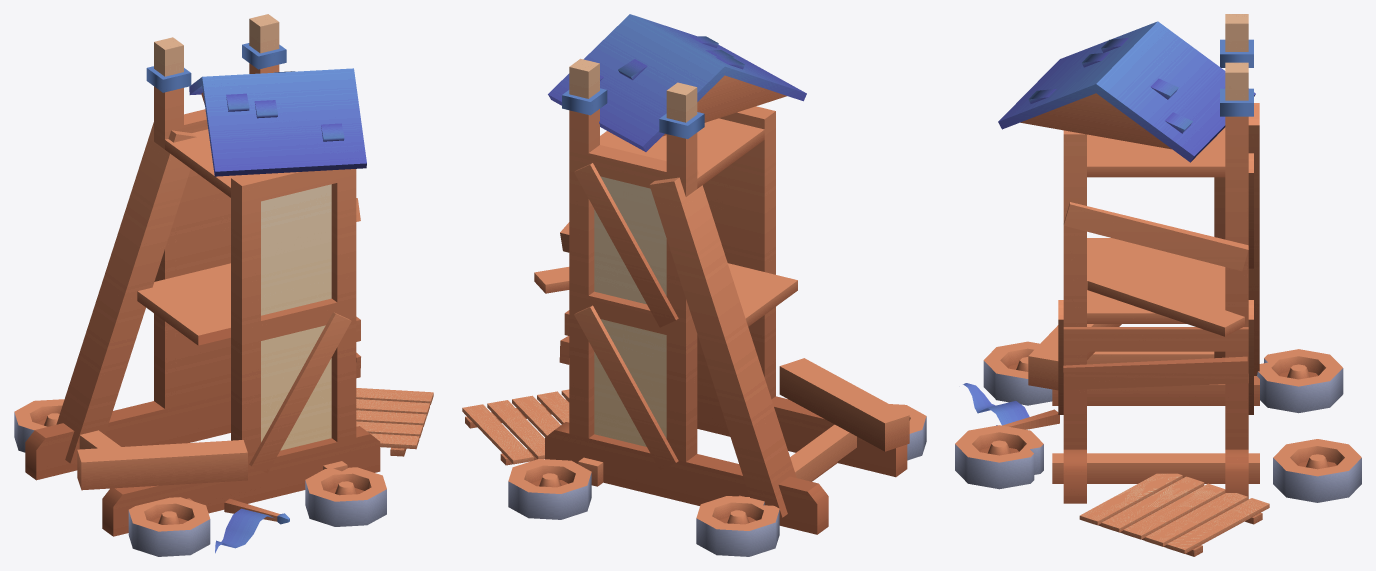
The model's file is siege-tower-demolished.glb.
3 views of the same model, side by side, from view 1: azimuth 30°, elevation 25°; view 2: azimuth 150°, elevation 25°; view 3: azimuth 270°, elevation 25° (orthographic). The views are drawn at different scales.
Parts seen in each view (by area): view 1: siege-tower-demolished; view 2: siege-tower-demolished; view 3: siege-tower-demolished.
Part boxes in pixels (bbox=[...]): siege-tower-demolished: bbox=[14, 14, 433, 556]; siege-tower-demolished: bbox=[462, 14, 926, 556]; siege-tower-demolished: bbox=[955, 14, 1361, 556].
Size of the model in its own units: 2.17 by 2.1 by 1.85.
Materials: 1 (1 with a texture image).
